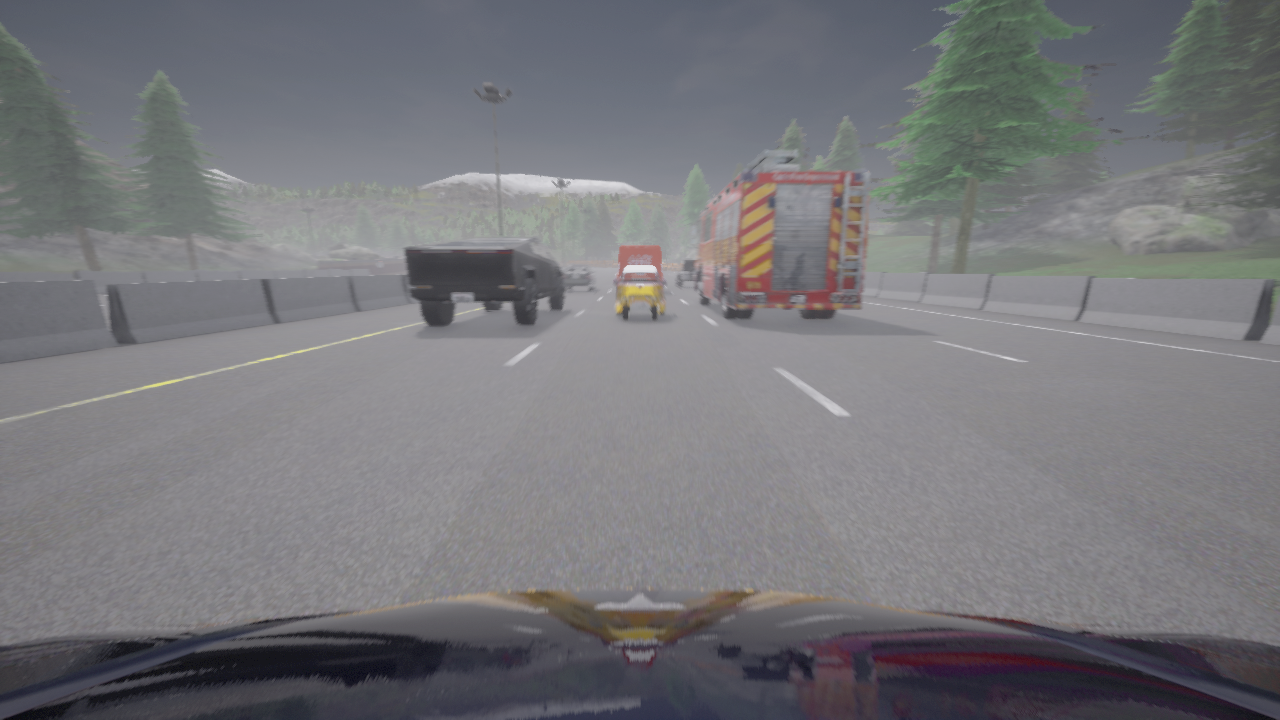cyclist: (0, 588, 1279, 719), (689, 150, 868, 319), (404, 237, 564, 325), (613, 265, 666, 320), (616, 246, 663, 289), (563, 264, 595, 291), (676, 259, 696, 287)
